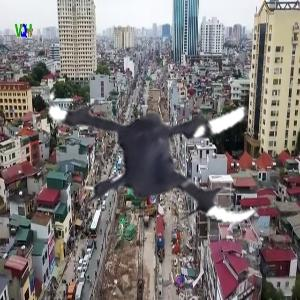drone: (45, 23, 287, 265)
